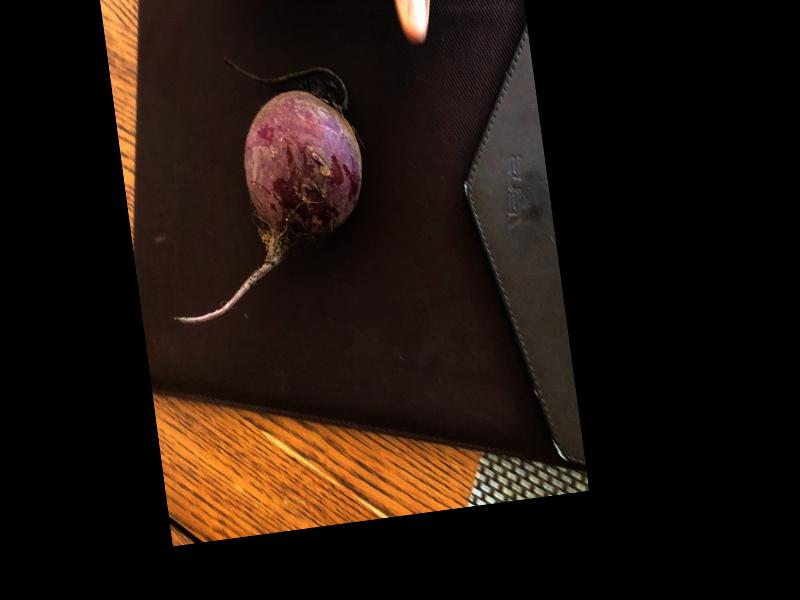Beet: (142, 43, 379, 326)
